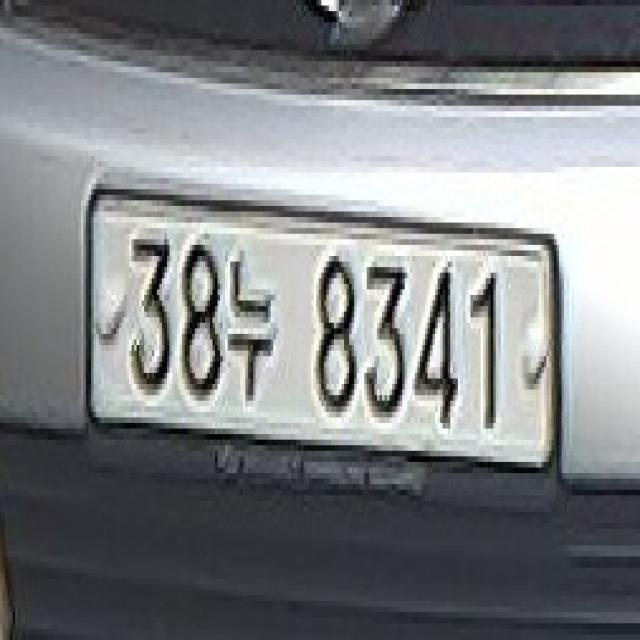1: (470, 267, 501, 440)
3: (362, 256, 407, 423), (129, 234, 172, 400)
4: (408, 262, 460, 428)
8: (177, 234, 225, 400), (311, 250, 357, 418)
license_plate: (81, 183, 556, 490)
nu: (228, 250, 276, 401)
